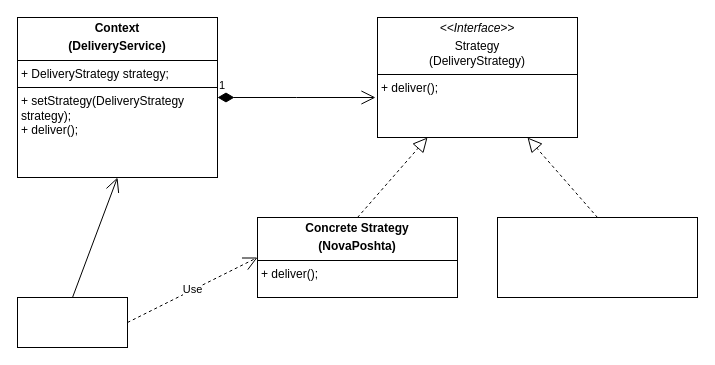
This 715x365 diagram has some shape labels left out. Each missing label, with the centre of its shape:
Client: (x=72, y=322)
Concrete Strategy (Courier) + deliver();: (x=597, y=257)
